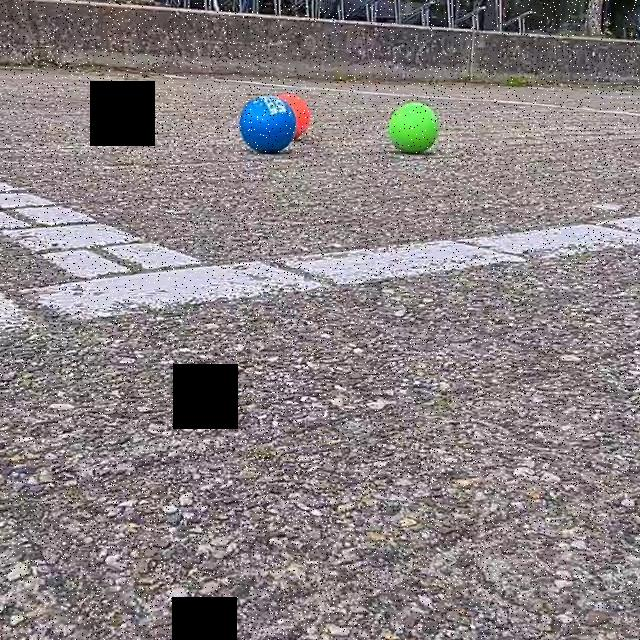ball: (238, 94, 298, 151), (392, 99, 439, 156)
